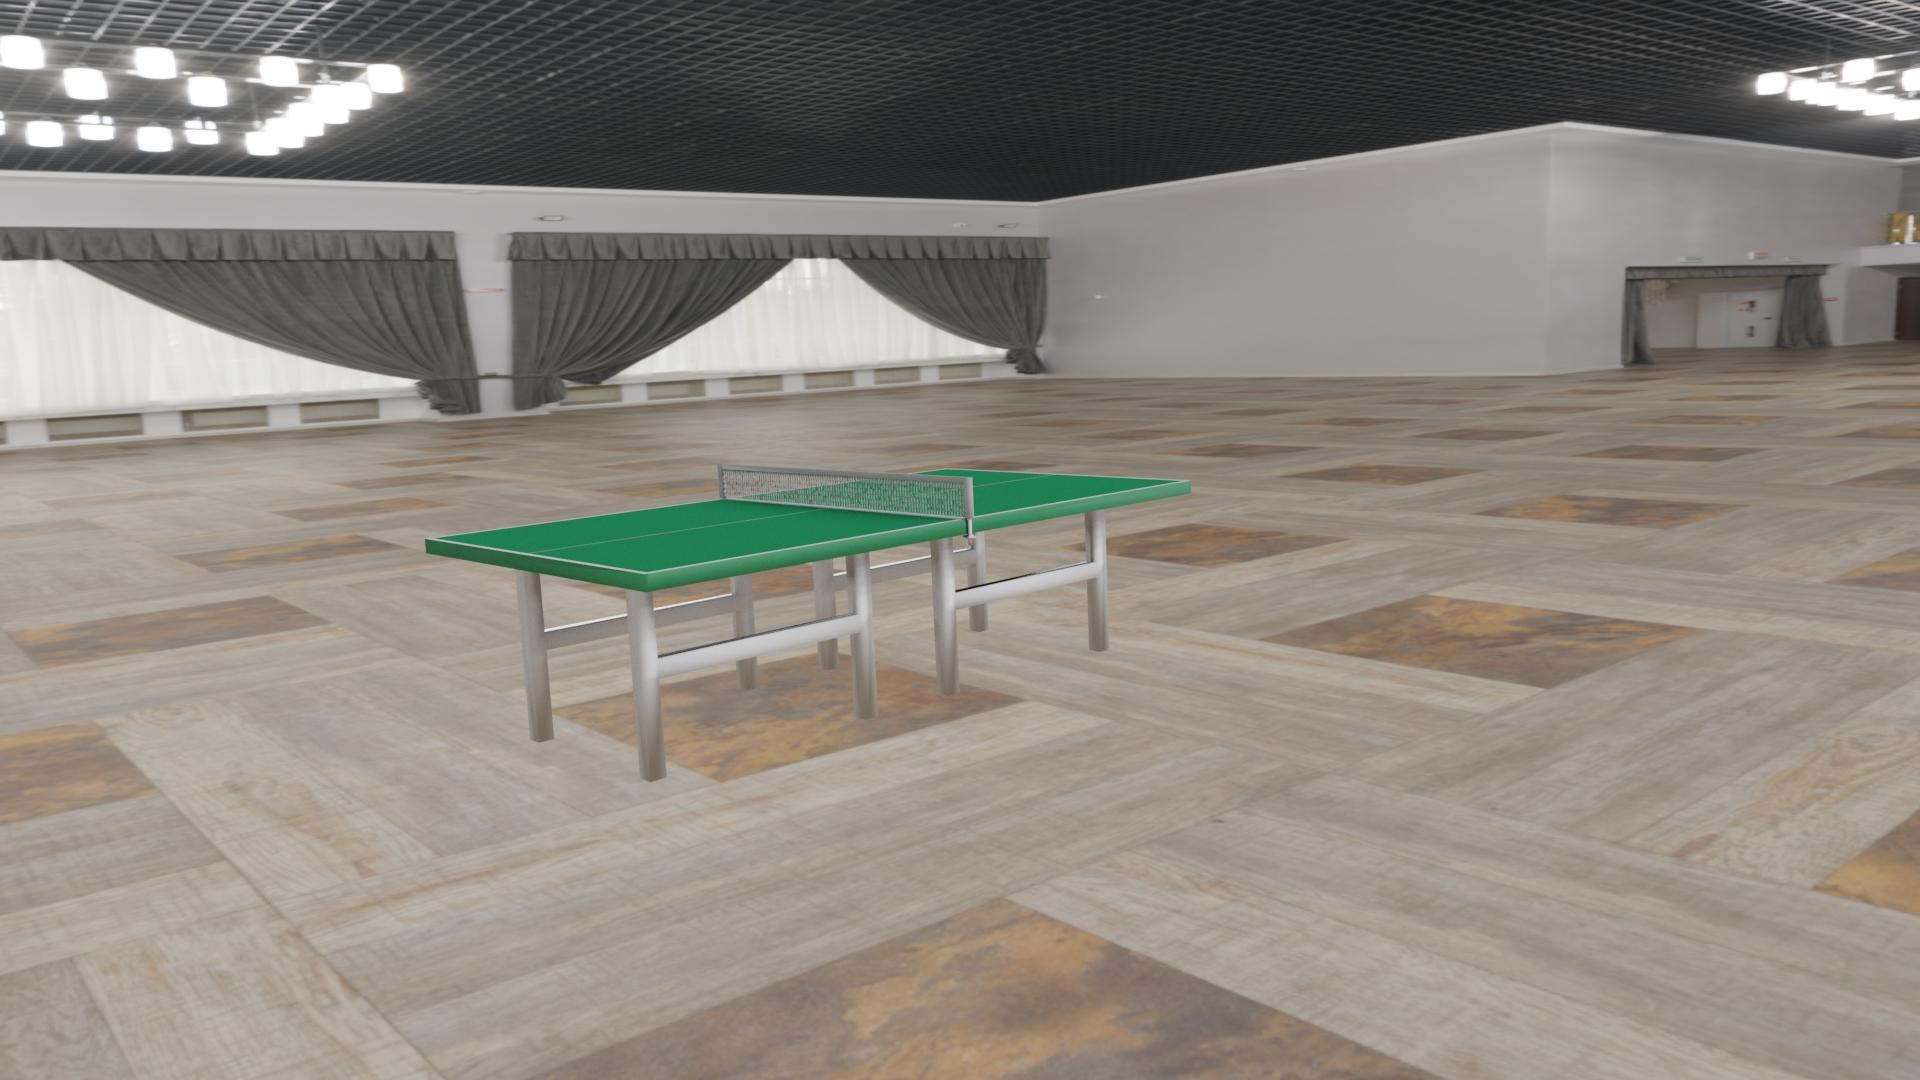table: (433, 469, 1184, 572)
